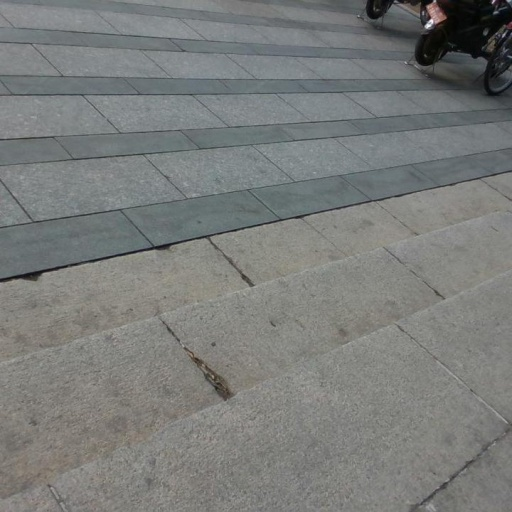Stairs: (0, 318, 220, 495), (163, 249, 438, 390)
